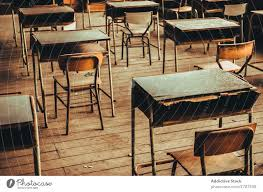desk: (132, 68, 259, 174), (31, 29, 111, 116), (162, 17, 240, 71), (17, 4, 74, 64), (104, 0, 159, 62)
